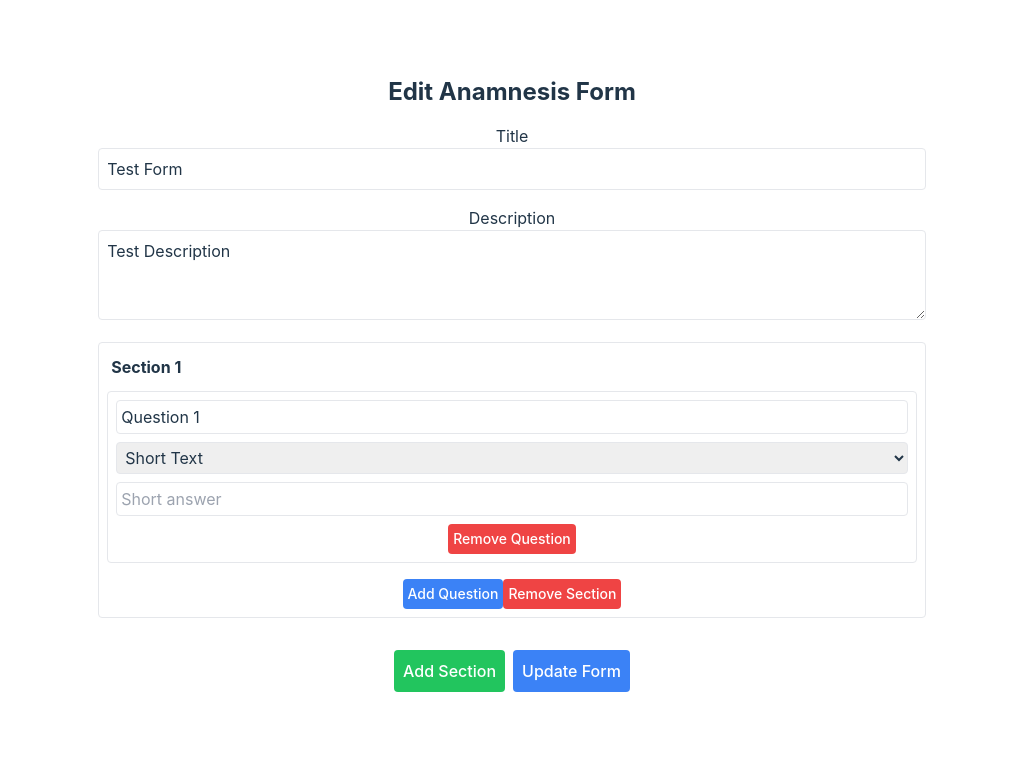
Test: AnamnesisFormEditor › adds a new question
The image size is (1024, 768).
Click the button "Add Question". click: (453, 594)
box: 402,579 -> 504,609
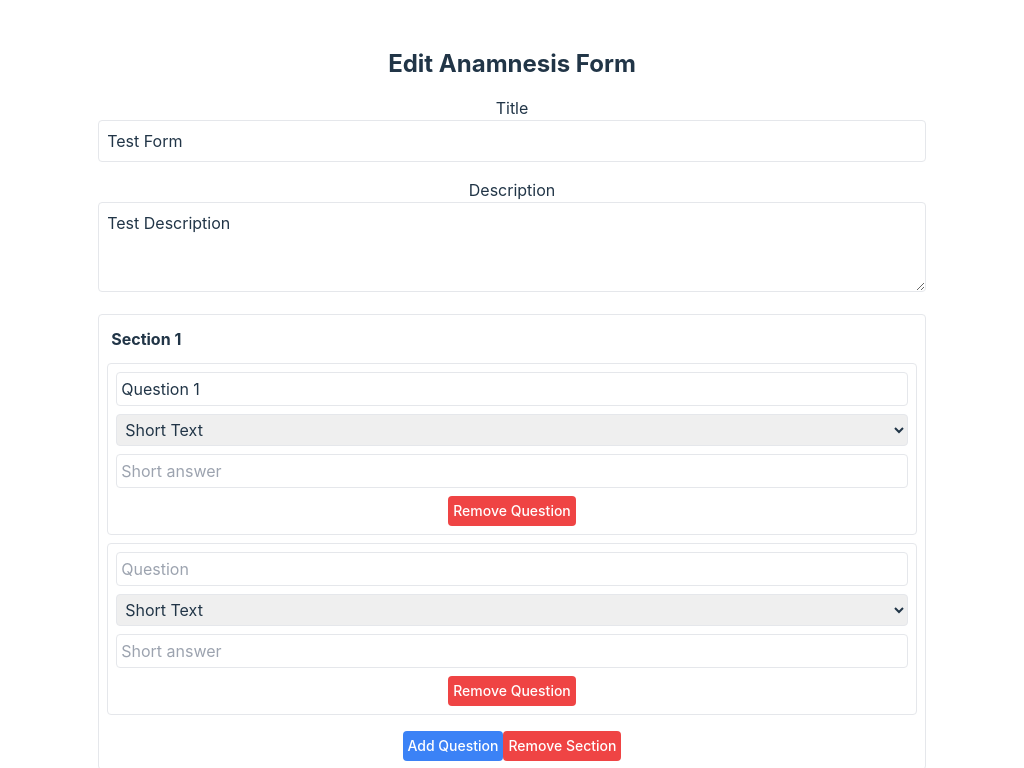
Check: the number of buttons "Remove Question" is 2, box 448,496 -> 576,526; 448,676 -> 576,706
